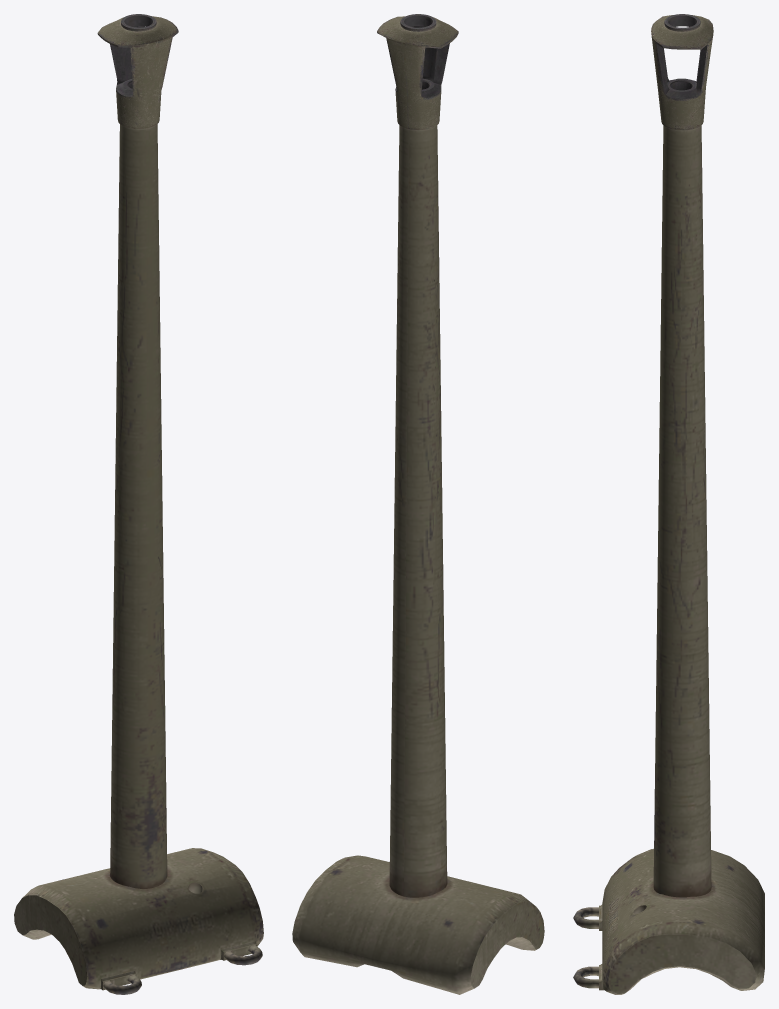
File: Gun_03.glb
The picture shows the model from 3 angles, left to right: view 1: azimuth 30°, elevation 25°; view 2: azimuth 150°, elevation 25°; view 3: azimuth 270°, elevation 25°; orthographic projection.
Visible parts, largest first — view 1: set_0_group_0; view 2: set_0_group_0; view 3: set_0_group_0.
Part boxes in pixels (box(x1,y1,x2,y2)): set_0_group_0: box(14, 14, 263, 994); set_0_group_0: box(292, 14, 544, 994); set_0_group_0: box(573, 14, 764, 994).
Size of the model in its own units: 1.14 by 5.67 by 1.06.
Materials: 1 (1 with a texture image).
